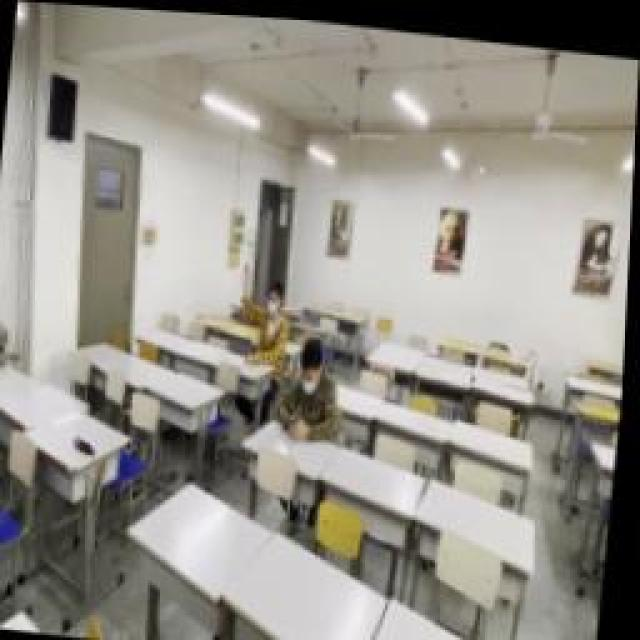phone: (280, 327, 345, 435)
study: (235, 255, 297, 360)
